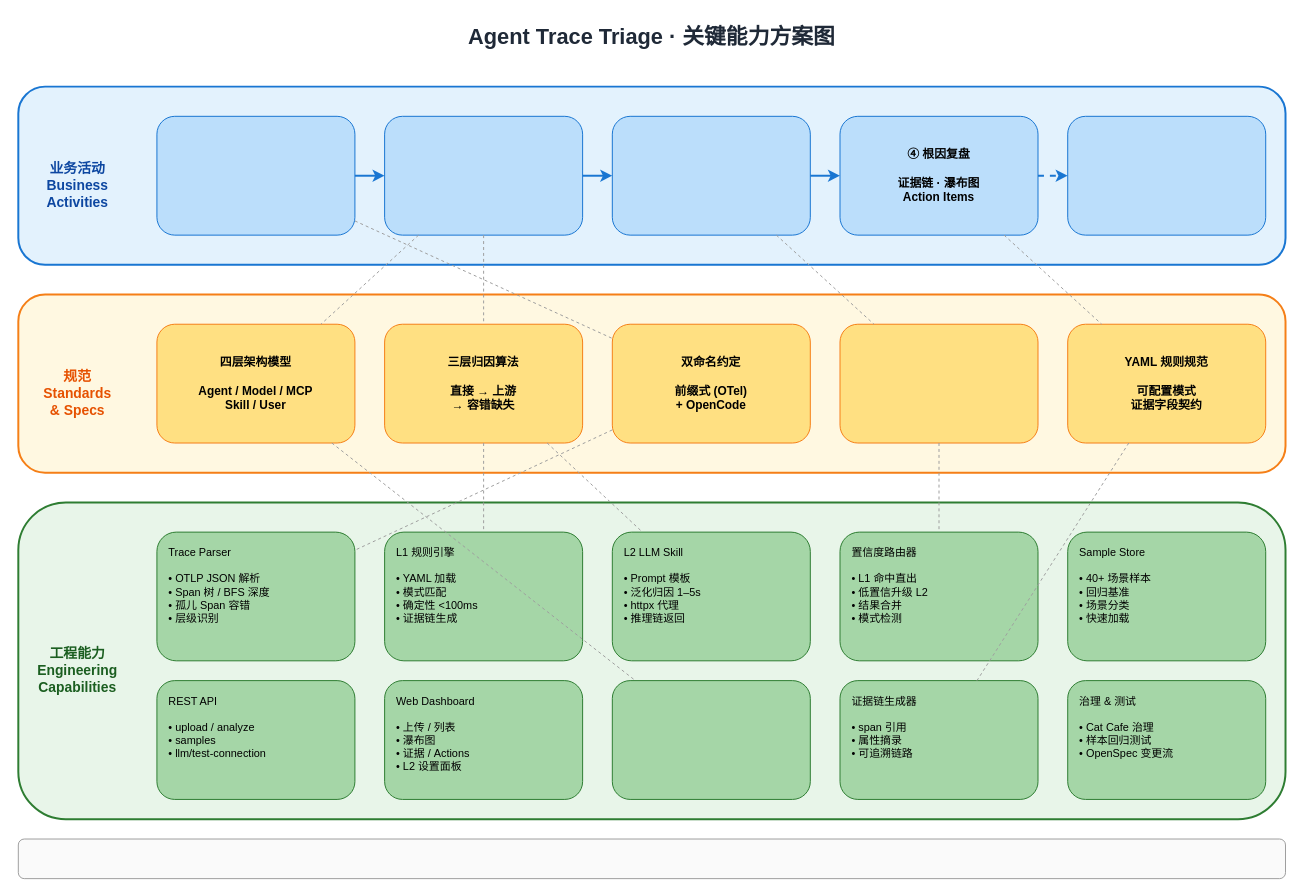
Image size: 1303x896. Some labels were removed from this diagram. The shapes that lost their labels are listed below. From the top down, each one's centre as x and y in pixels, then its label:
the point at 255,175: ① Trace 采集 OTel / OpenCode 运行时轨迹上报
the point at 483,175: ② 故障定界 四层归属 自动化判定
the point at 710,175: ③ 责任路由 primary_owner + co_responsible
the point at 1166,175: ⑤ 场景回归 40+ 样本 持续验证
the point at 938,383: 共同责任模型 primary_owner + co_responsible
the point at 710,739: 层级识别引擎 • identify_span_layer • get_effective_layer • tool_type 分派
the point at 651,858: 图例： ━━ 业务流向（实线箭头） ┄┄ 层间映射（虚线） 蓝=业务活动 黄=规范 绿=工程能力
